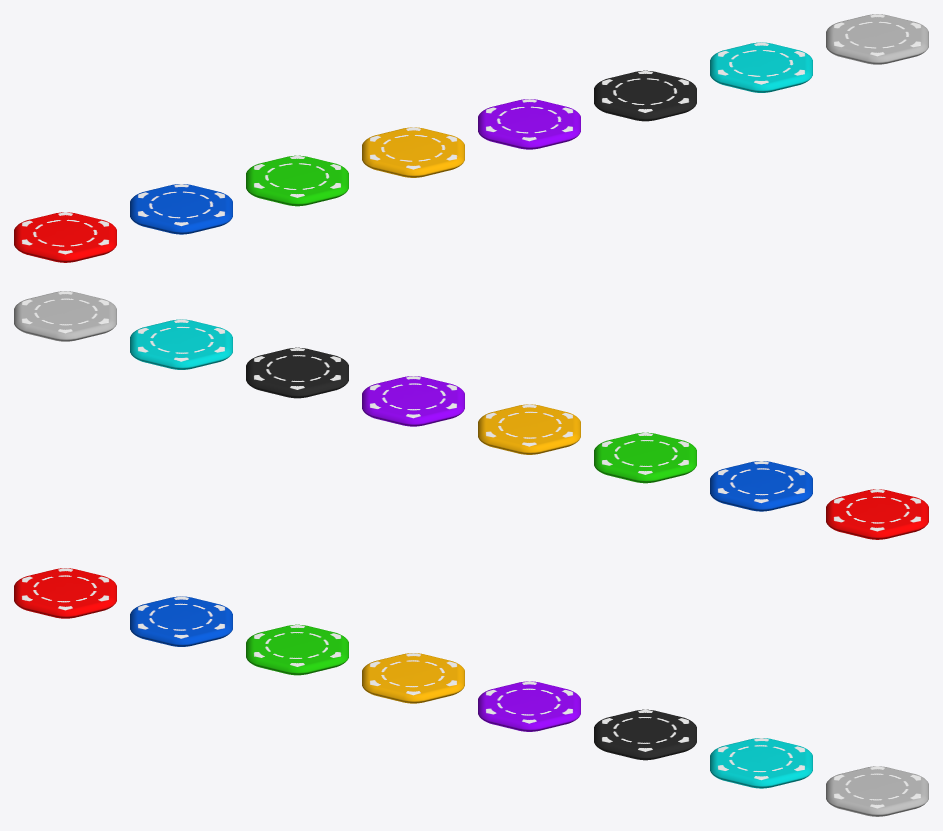
The model's file is Hex_Chip_04.fbx.
3 renders of one model, top to bottom at view 1: azimuth 30°, elevation 25°; view 2: azimuth 150°, elevation 25°; view 3: azimuth 330°, elevation 25°, orthographic.
Parts seen in each view (by area): view 1: Hex_Chip_03, Hex_Chip_04, Hex_Chip_06, Hex_Chip_08, Hex_Chip_01, Hex_Chip_02, Hex_Chip_05, Hex_Chip_07; view 2: Hex_Chip_03, Hex_Chip_01, Hex_Chip_04, Hex_Chip_06, Hex_Chip_08, Hex_Chip_02, Hex_Chip_05, Hex_Chip_07; view 3: Hex_Chip_06, Hex_Chip_03, Hex_Chip_05, Hex_Chip_08, Hex_Chip_01, Hex_Chip_04, Hex_Chip_07, Hex_Chip_02.
Part boxes in pixels (x1,y1,x2,y2): Hex_Chip_03: (246, 155, 348, 206); Hex_Chip_04: (362, 127, 464, 177); Hex_Chip_06: (594, 70, 696, 121); Hex_Chip_08: (826, 14, 928, 64); Hex_Chip_01: (14, 212, 116, 262); Hex_Chip_02: (130, 184, 232, 234); Hex_Chip_05: (478, 99, 580, 149); Hex_Chip_07: (710, 42, 812, 92); Hex_Chip_03: (594, 432, 696, 483); Hex_Chip_01: (826, 489, 928, 539); Hex_Chip_04: (478, 404, 580, 454); Hex_Chip_06: (246, 347, 348, 398); Hex_Chip_08: (14, 291, 116, 341); Hex_Chip_02: (710, 461, 812, 511); Hex_Chip_05: (362, 376, 464, 426); Hex_Chip_07: (130, 319, 232, 369); Hex_Chip_06: (594, 709, 696, 760); Hex_Chip_03: (246, 624, 348, 675); Hex_Chip_05: (478, 681, 580, 731); Hex_Chip_08: (826, 766, 928, 816); Hex_Chip_01: (14, 568, 116, 618); Hex_Chip_04: (362, 653, 464, 703); Hex_Chip_07: (710, 738, 812, 788); Hex_Chip_02: (130, 596, 232, 646).
Bounding box in the file's own units: 39.16 × 0.367 × 3.85.
